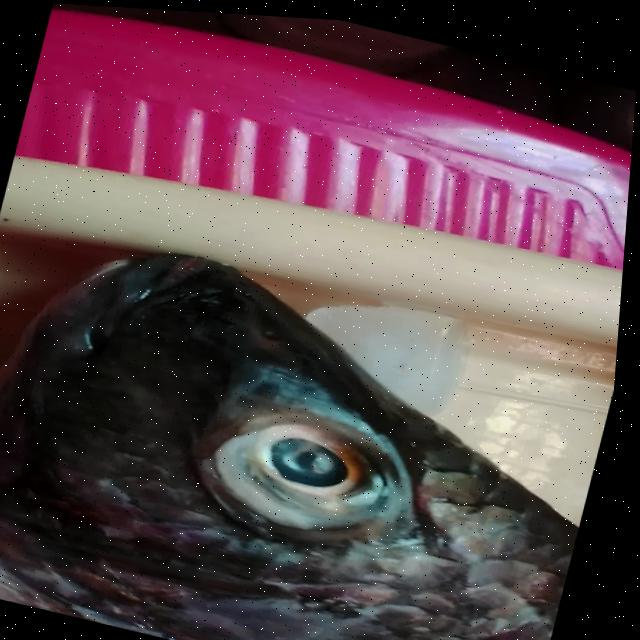Fresh: (158, 366, 453, 561)
